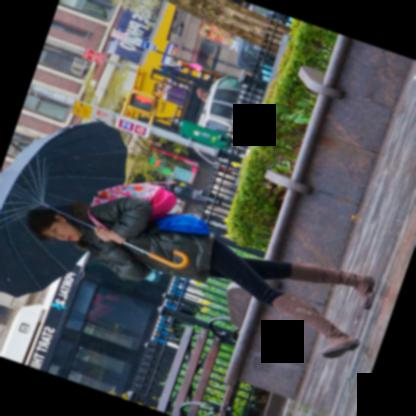backpack: (89, 180, 179, 220)
handbag: (146, 213, 209, 233)
